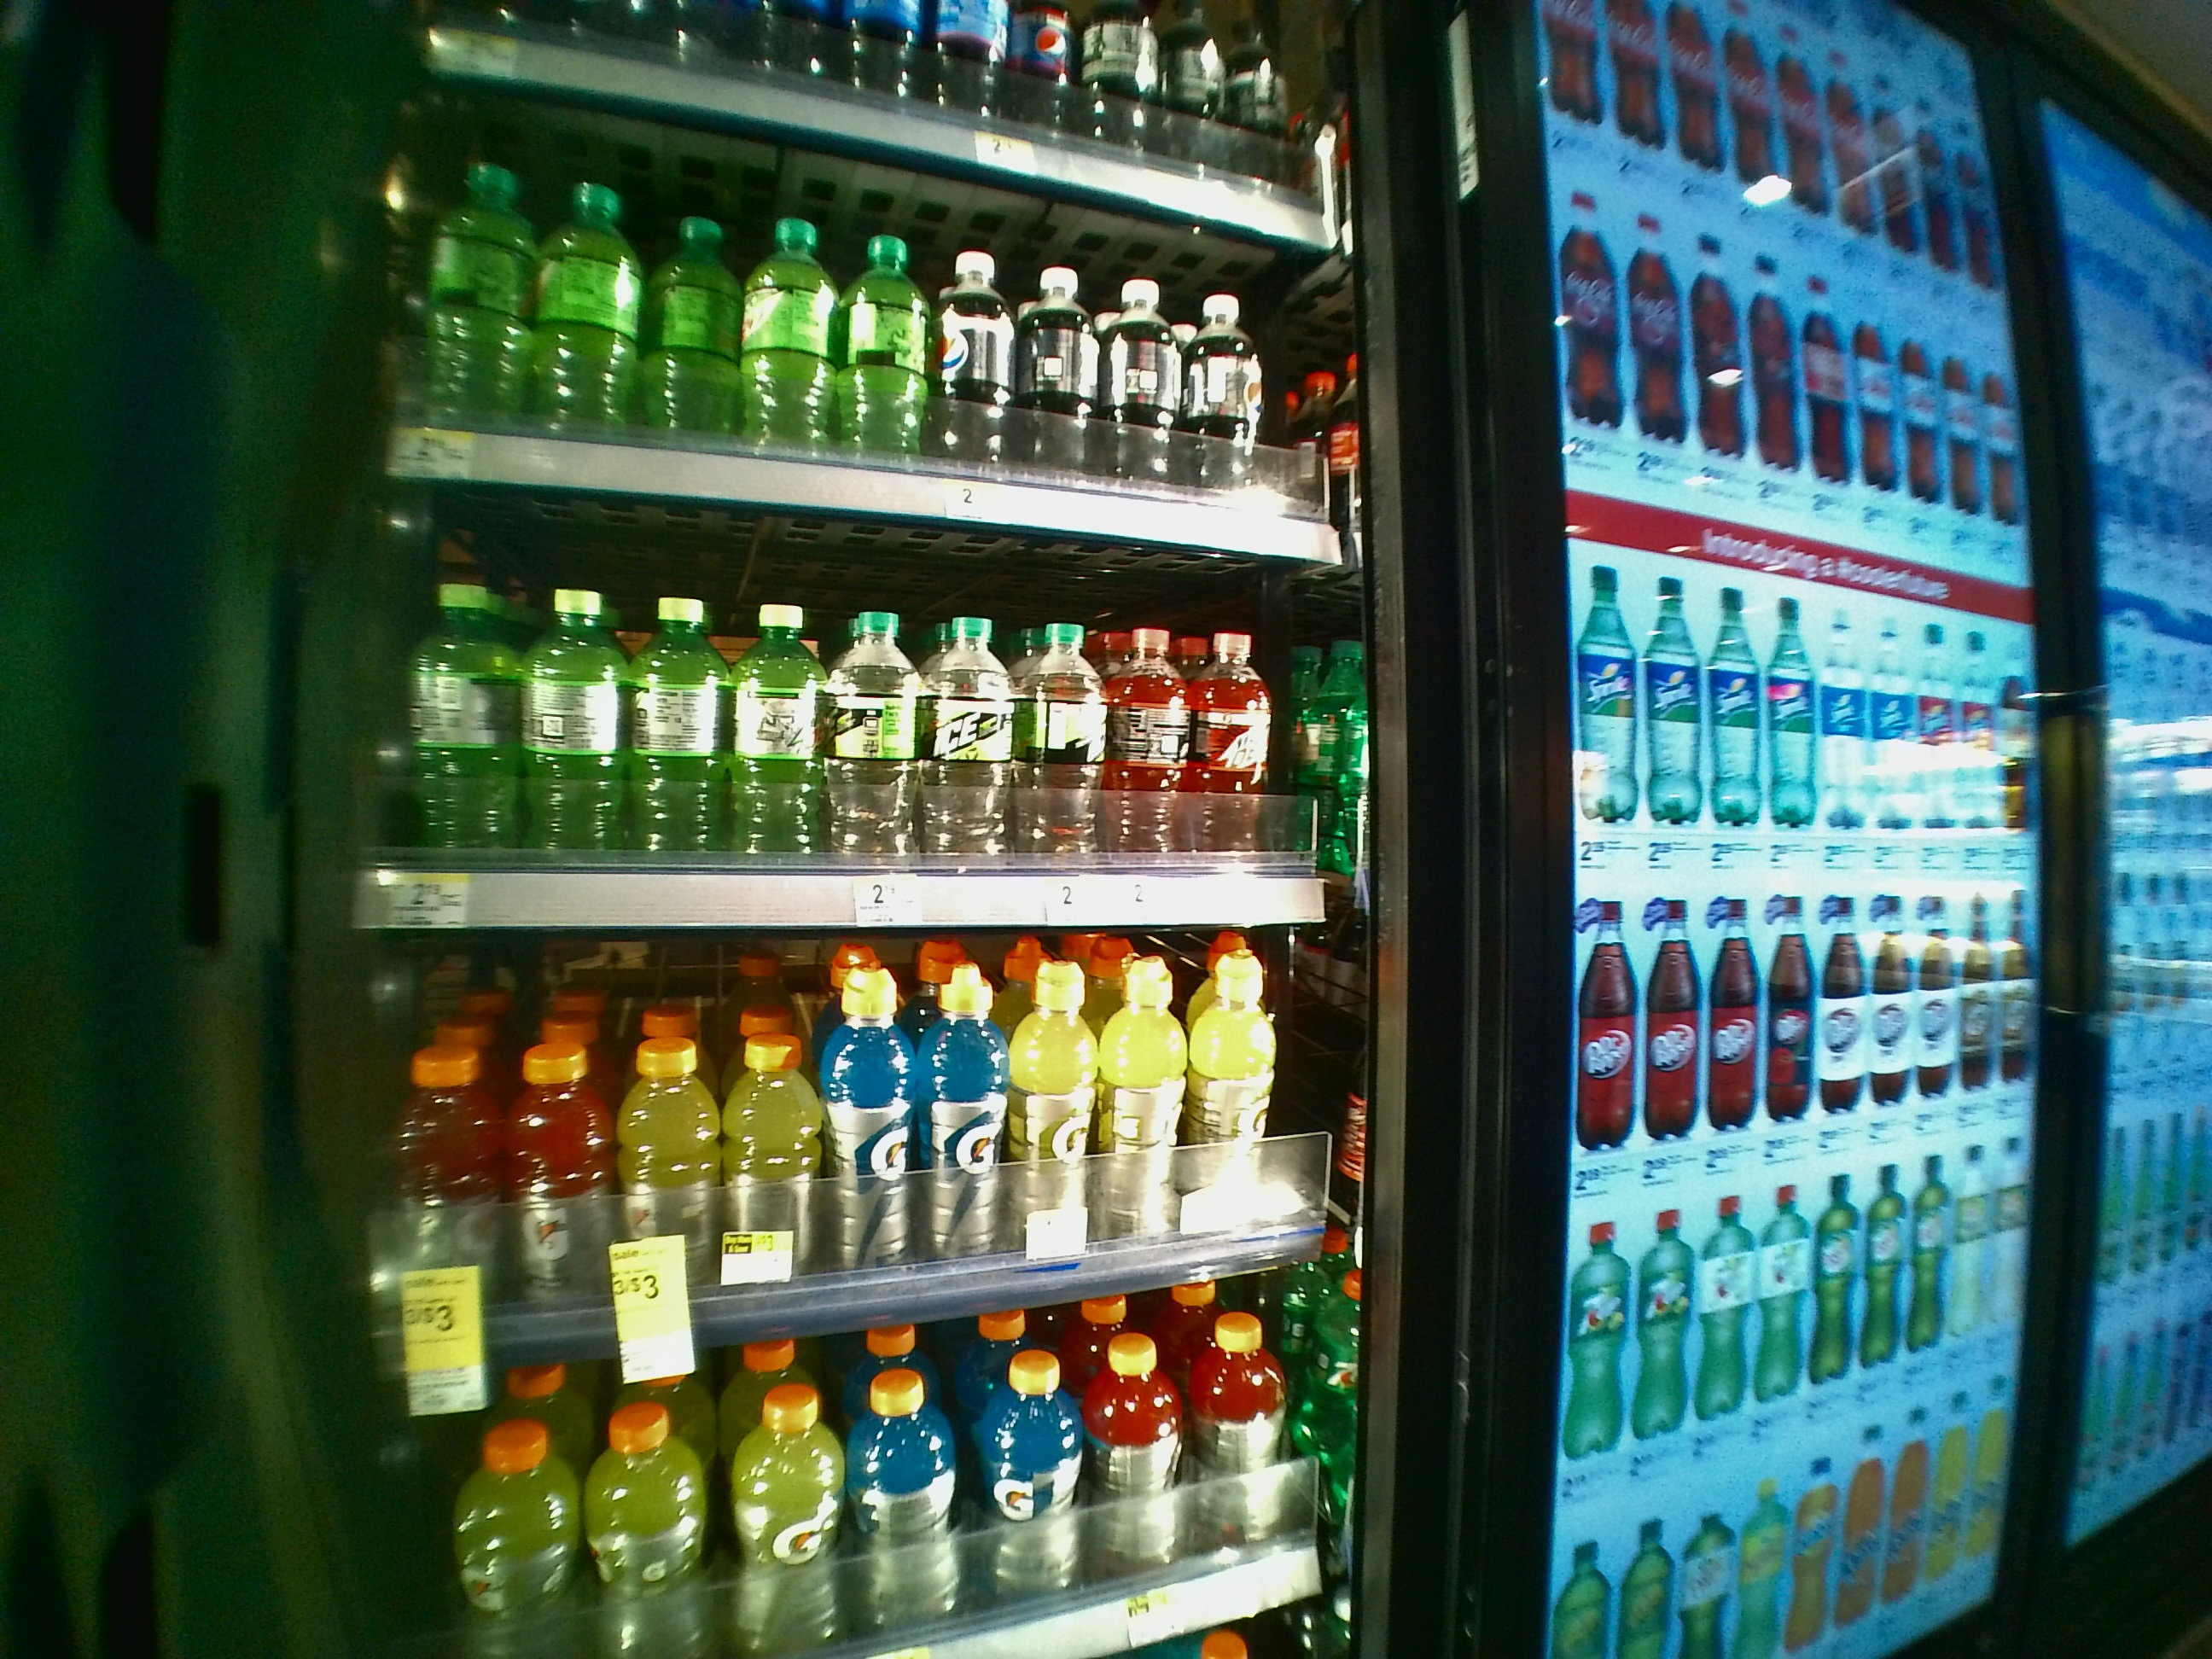shelf: (334, 467, 1392, 896), (345, 889, 1388, 1323)
